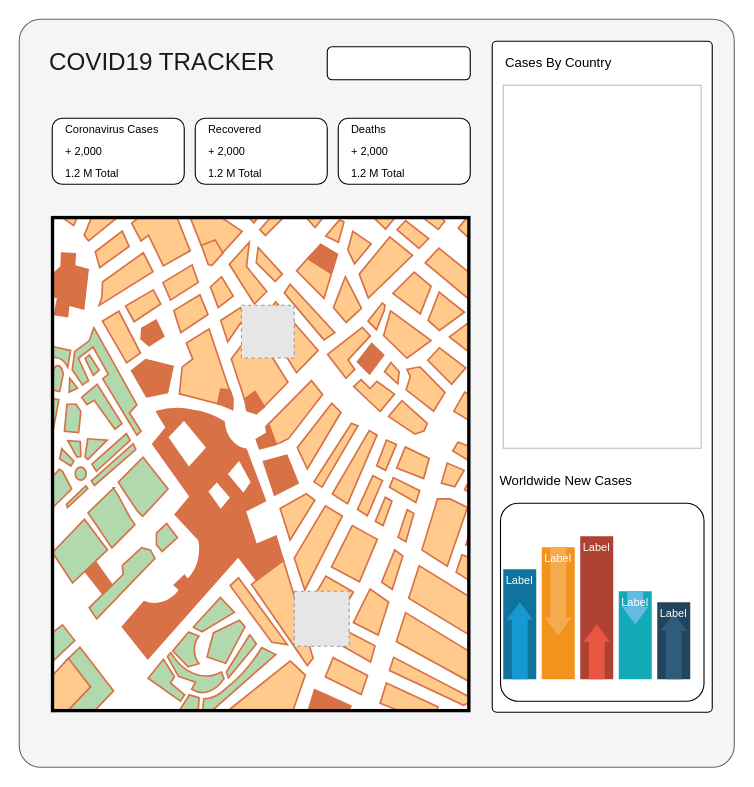
Image size: 754x787. Some labels were removed from this diagram. Grey dashed boxes stand in for pictures. Each missing label, with the centre of its shape:
"Value 1 Value 2 Value 3 Value 4 Value 5 Value 6 Value 7 Value 8 Value 9" goes at (x=601, y=266).
"Worldwide" goes at (x=398, y=63).
